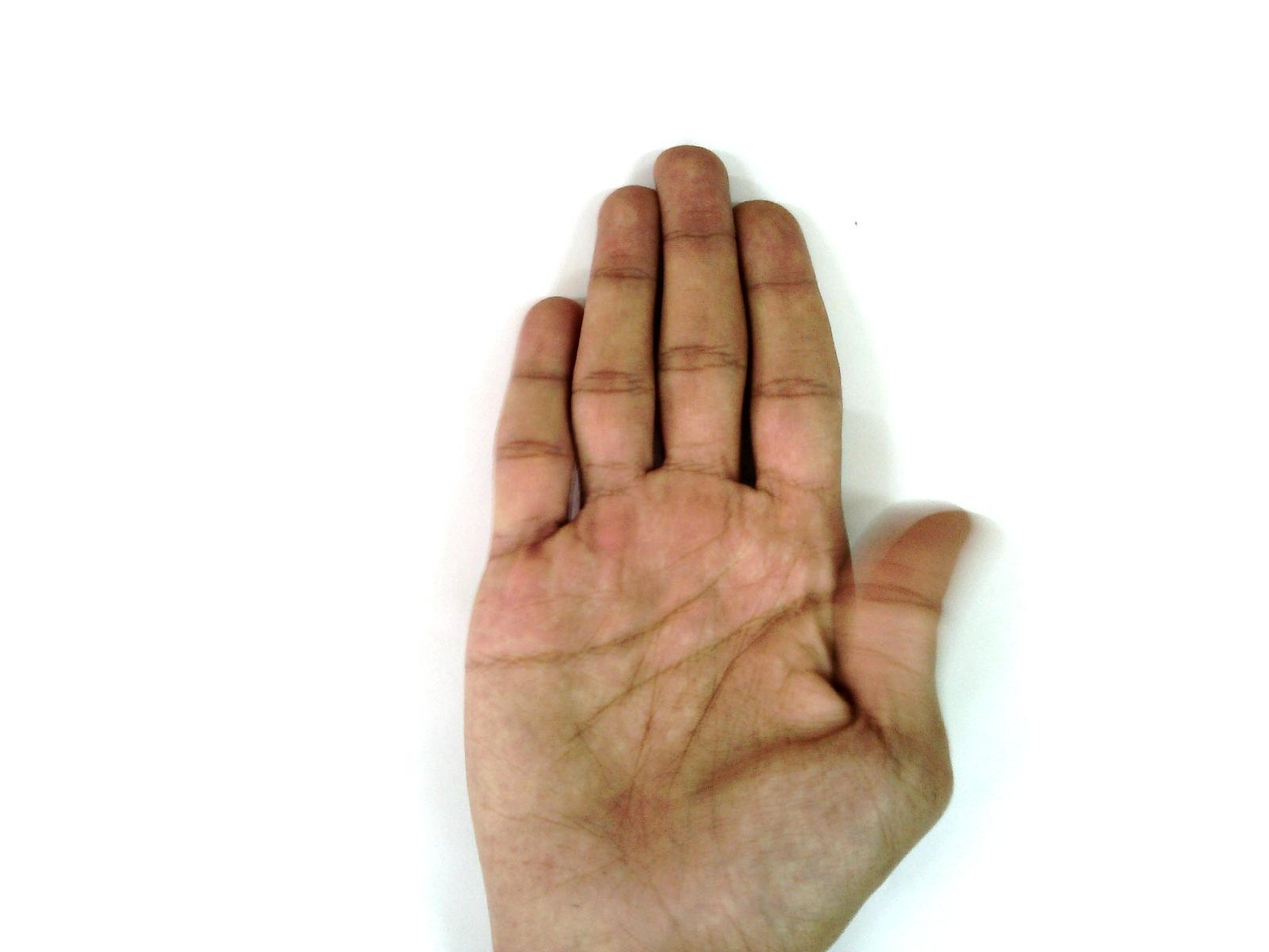open_palm: (459, 144, 977, 951)
